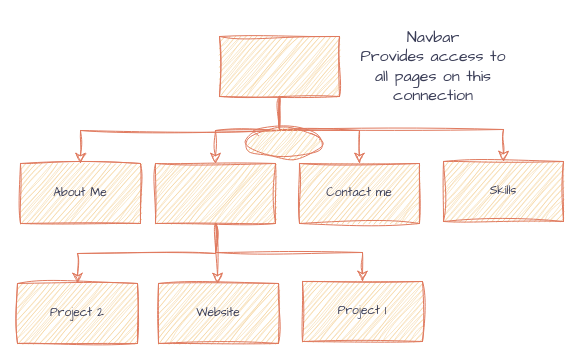
Some shapes in this 581 by 361 pixel diagram are drawn without their labels. Here are the shapes that lost their labels. From the top down, the centre of each, then its label:
At point 279,66: "Home".
At point 284,142: "Navbar".
At point 215,193: "Projects".
